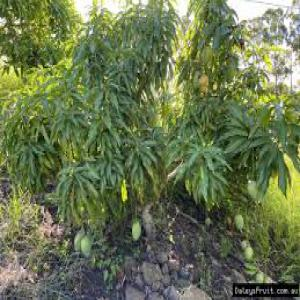Tree: (7, 2, 298, 274)
